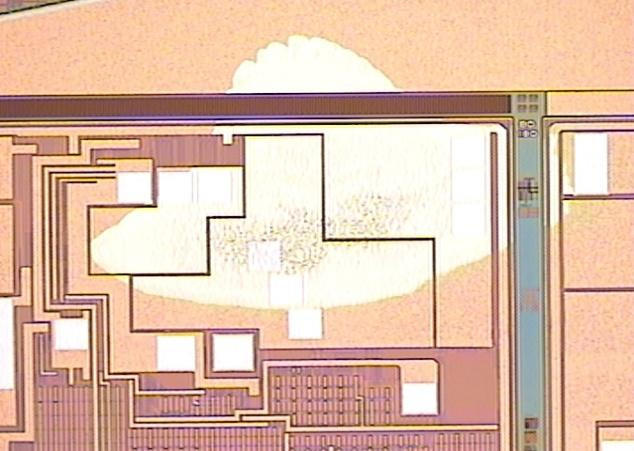COATING BAD: (82, 27, 586, 324)
